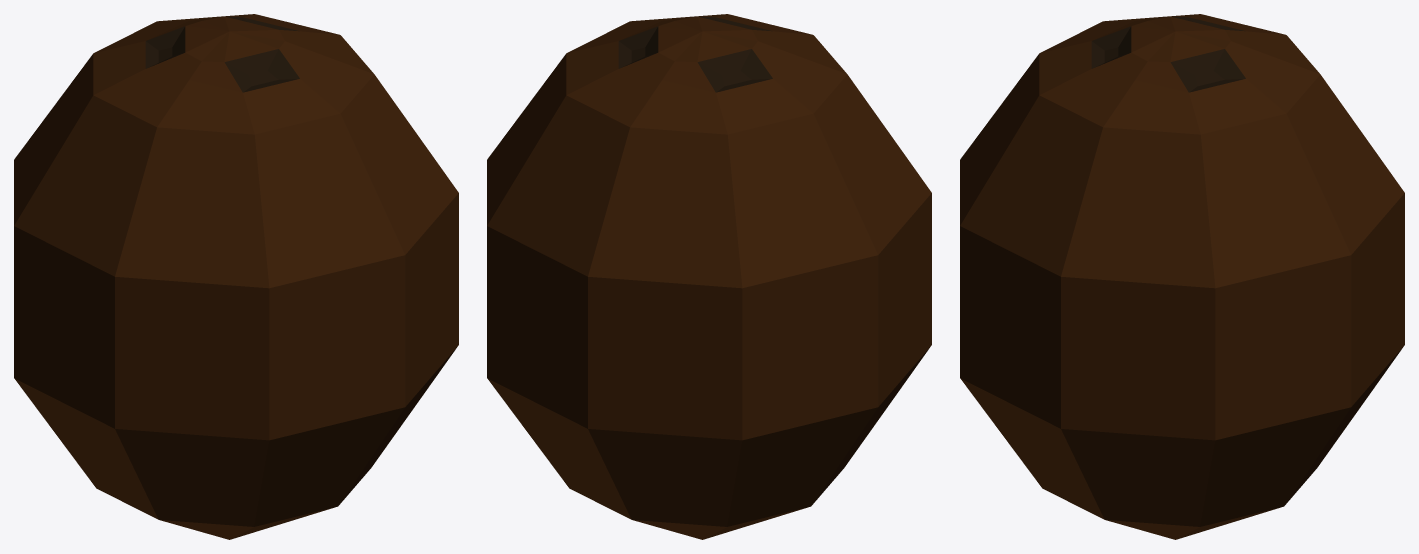
3 renders of one model, left to right at view 1: azimuth 30°, elevation 25°; view 2: azimuth 150°, elevation 25°; view 3: azimuth 270°, elevation 25°, orthographic.
Visible parts, largest first — view 1: Coconut_Sphere.009; view 2: Coconut_Sphere.009; view 3: Coconut_Sphere.009.
Part boxes in pixels (x1=…): Coconut_Sphere.009: x1=14, y1=14, x2=458, y2=539; Coconut_Sphere.009: x1=487, y1=14, x2=931, y2=539; Coconut_Sphere.009: x1=960, y1=14, x2=1404, y2=539.
Bounding box in the file's own units: 3.21 × 3.98 × 3.16.
Materials: 1 (1 with a texture image).
